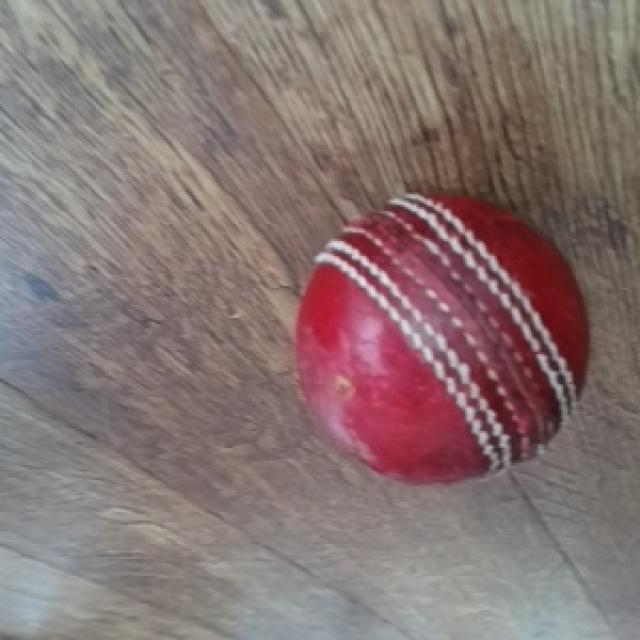ball: (292, 194, 591, 491)
